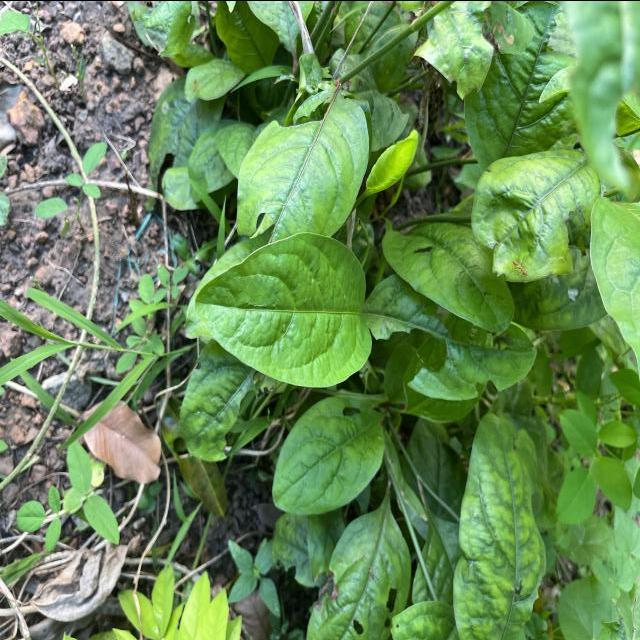Plumbago indica: (188, 223, 381, 393), (449, 405, 554, 640), (267, 388, 393, 522)
